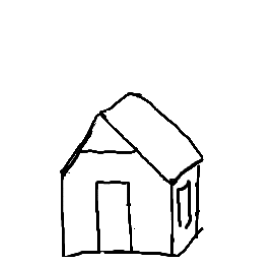bottom_placed_house: (3, 1, 260, 260)
door: (89, 175, 140, 260)
open_window: (173, 178, 196, 234)
roof: (54, 71, 209, 183)
wall: (56, 143, 176, 259)
